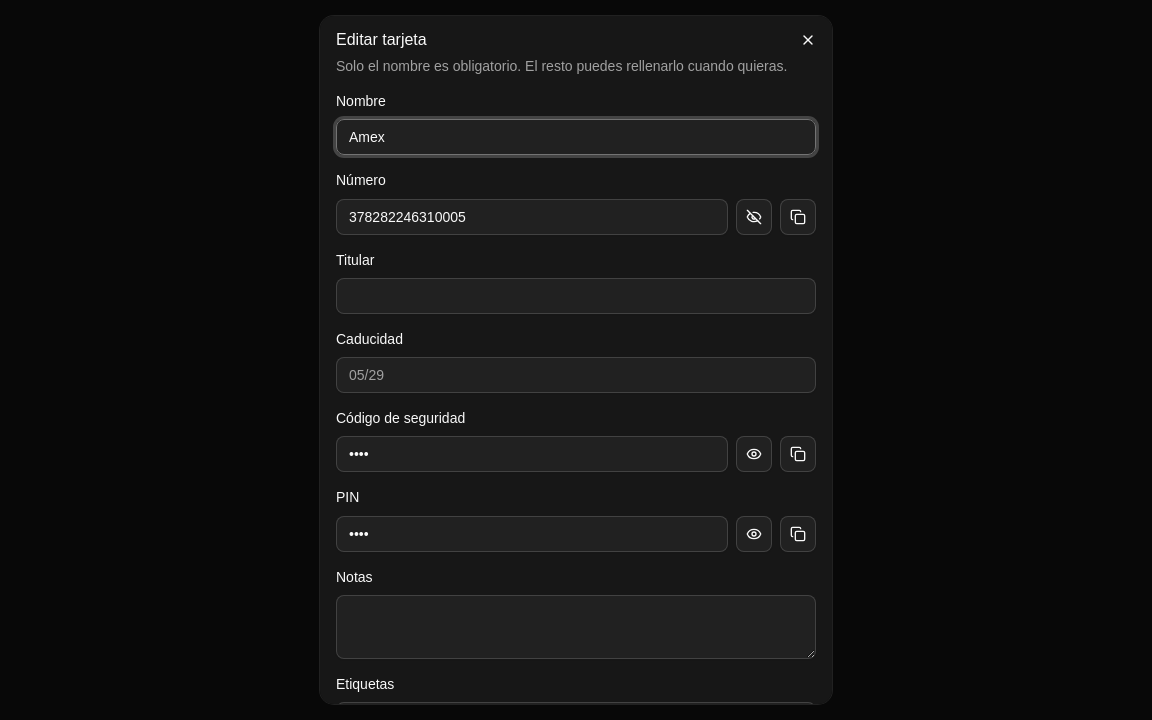
Test case: what a card copies as a secret › clears the clipboard after copying «el número»
The image size is (1152, 720).
Click the button named "Copiar el número": click(798, 216) [780,198,816,234]
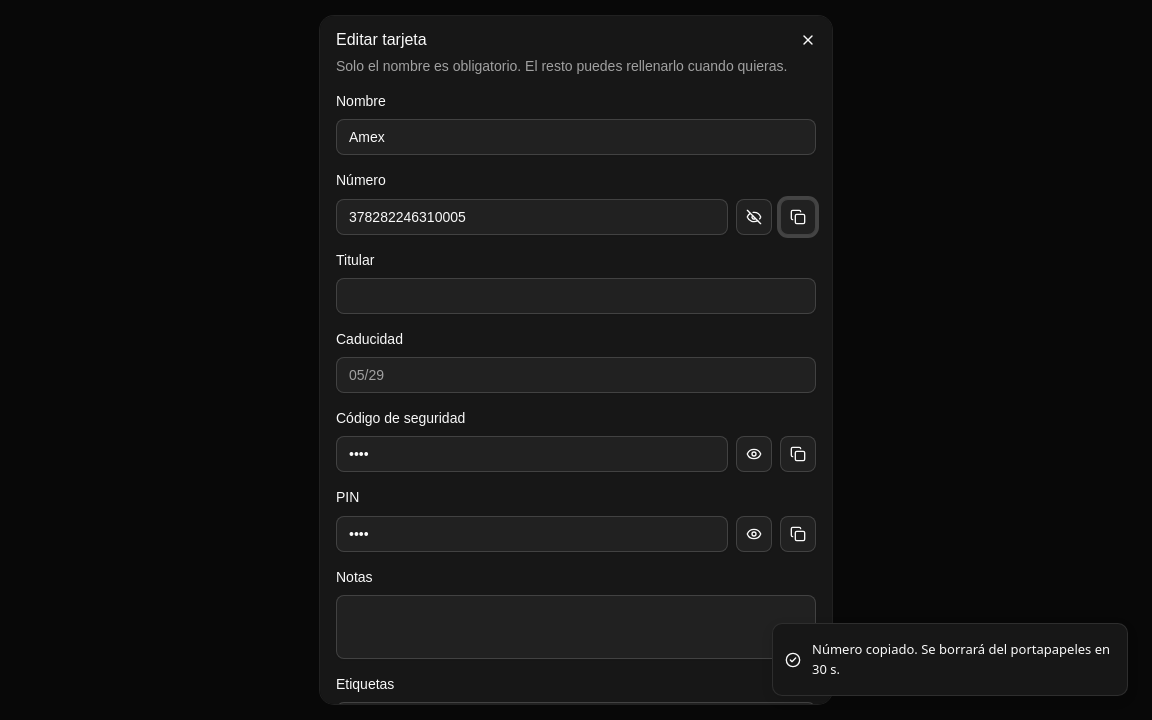
Expected: the text "Número copiado. Se borrará del portapapeles en 30 s." is shown, [812,640,1111,679]
